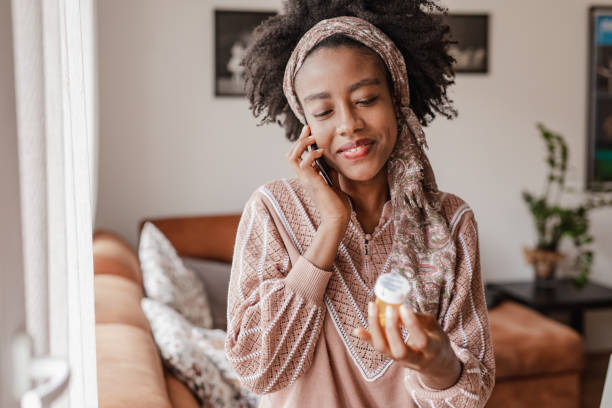without mask: (292, 41, 402, 181)
